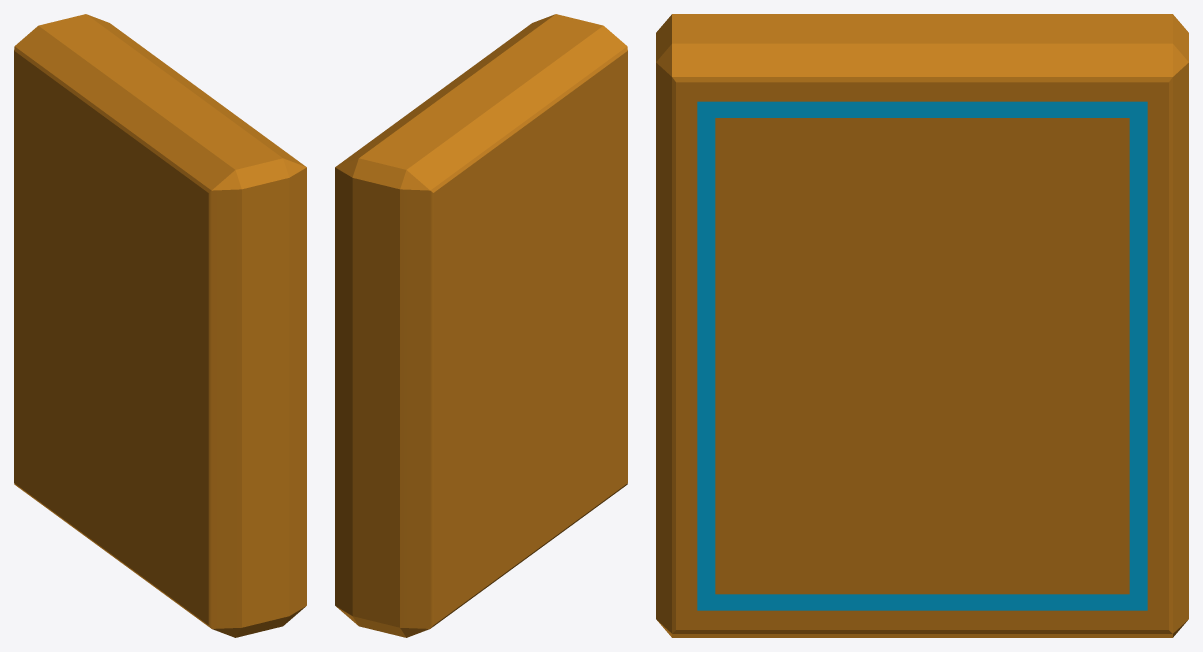
Rendered from Re_Drop_Target.fbx.
The picture shows the model from 3 angles, left to right: view 1: azimuth 30°, elevation 25°; view 2: azimuth 150°, elevation 25°; view 3: azimuth 270°, elevation 25°; orthographic projection. The views are drawn at different scales.
Parts seen in each view (by area): view 1: Re_Drop_Target; view 2: Re_Drop_Target; view 3: Re_Drop_Target.
Boxes of the visible parts, left/top/right/bottom form: Re_Drop_Target: left=14, top=14, right=306, bottom=637; Re_Drop_Target: left=335, top=14, right=627, bottom=637; Re_Drop_Target: left=656, top=14, right=1188, bottom=637.
Bounding box in the file's own units: 0.6785 × 3.09 × 2.51.
